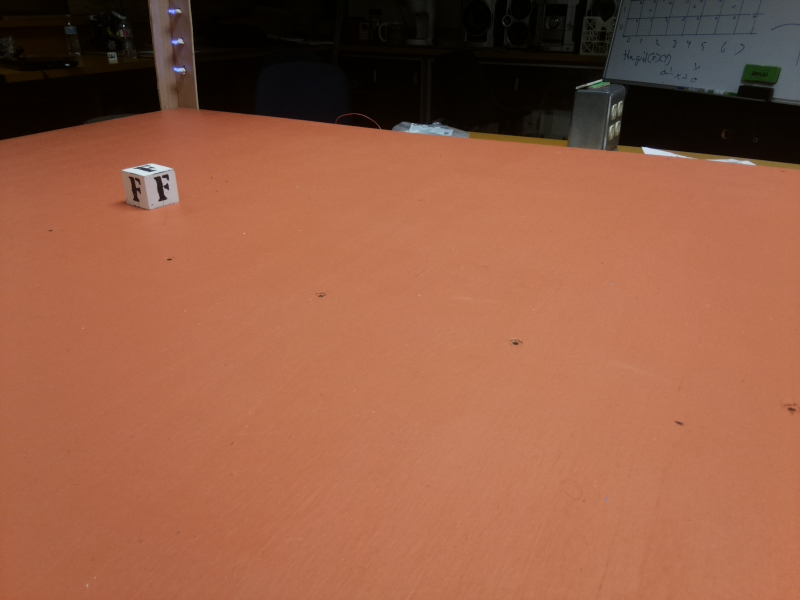blockF: (117, 160, 183, 214)
corner: (148, 1, 200, 111)
